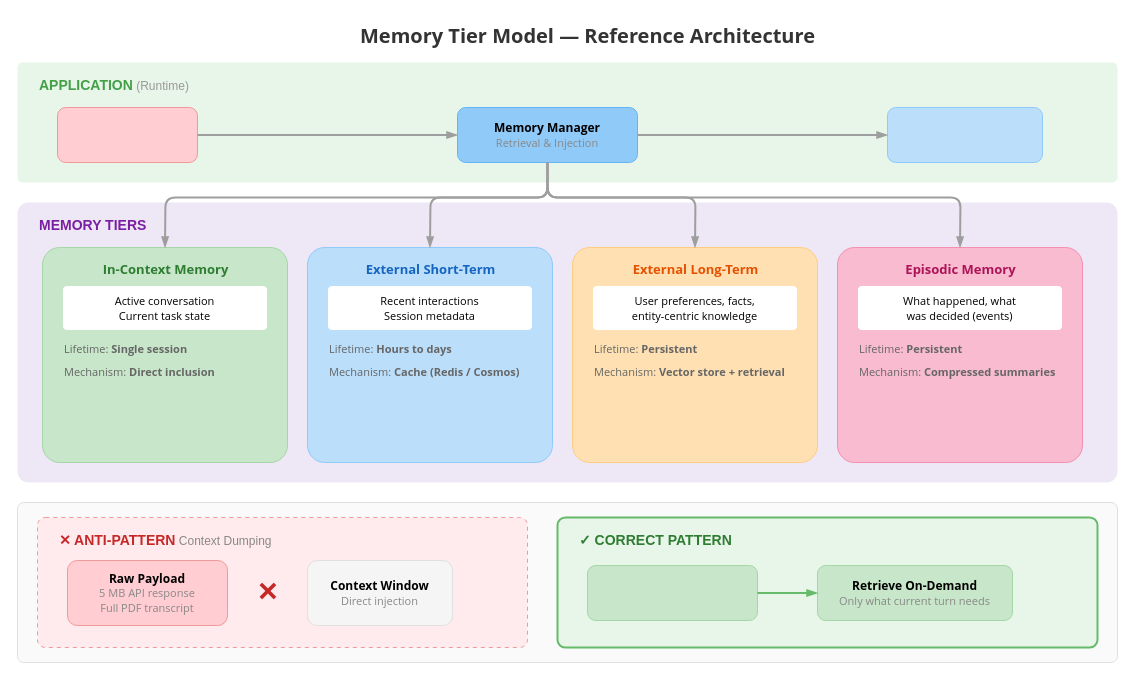
The diagram is 1135 pixels wide and 680 high, and some of its shapes have lost their labels. The shapes that lost their labels are listed below. From the top down, each one's box as (x1, y1, x2, y2) in pixels, then its label:
(56, 106, 198, 162): User Input Current Turn
(886, 106, 1042, 162): Context Window Assembly
(586, 564, 758, 620): Handle / Reference Lightweight pointer
